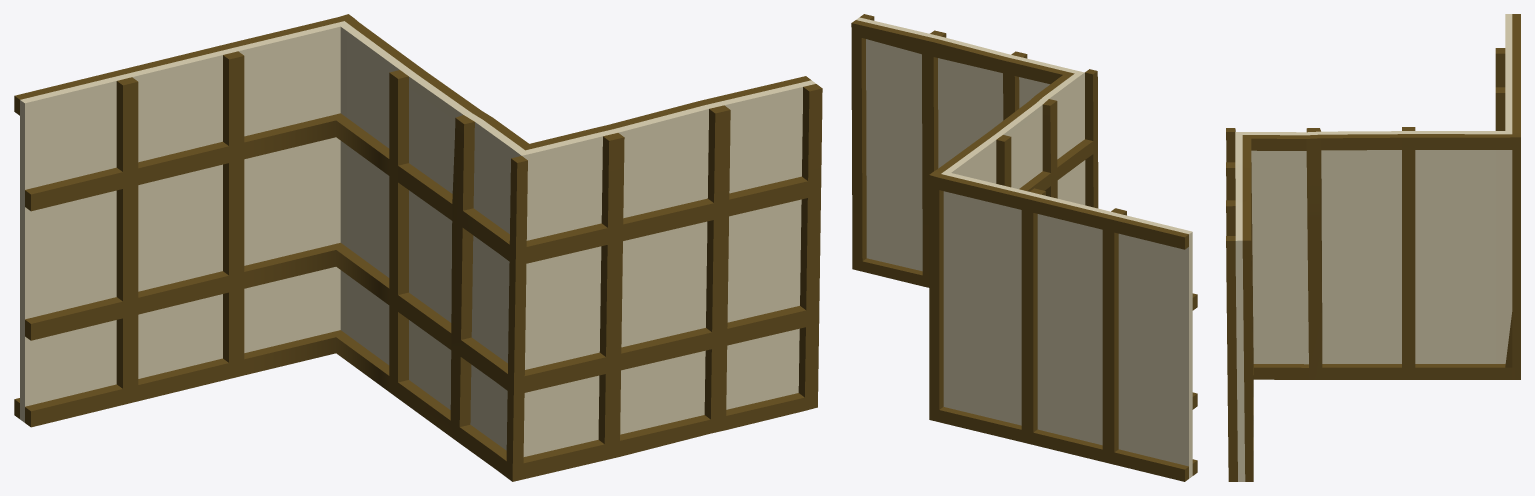
Rendered from DoubleCornerWall.fbx.
The picture shows the model from 3 angles, left to right: view 1: azimuth 30°, elevation 25°; view 2: azimuth 150°, elevation 25°; view 3: azimuth 270°, elevation 25°; orthographic projection. The views are drawn at different scales.
Parts seen in each view (by area): view 1: polySurface76; view 2: polySurface76; view 3: polySurface76.
Part boxes in pixels (left/top/right/bottom): polySurface76: left=14, top=14, right=822, bottom=481; polySurface76: left=851, top=14, right=1197, bottom=481; polySurface76: left=1226, top=14, right=1520, bottom=481.
Size of the model in its own units: 6.03 by 3.02 by 3.31.
